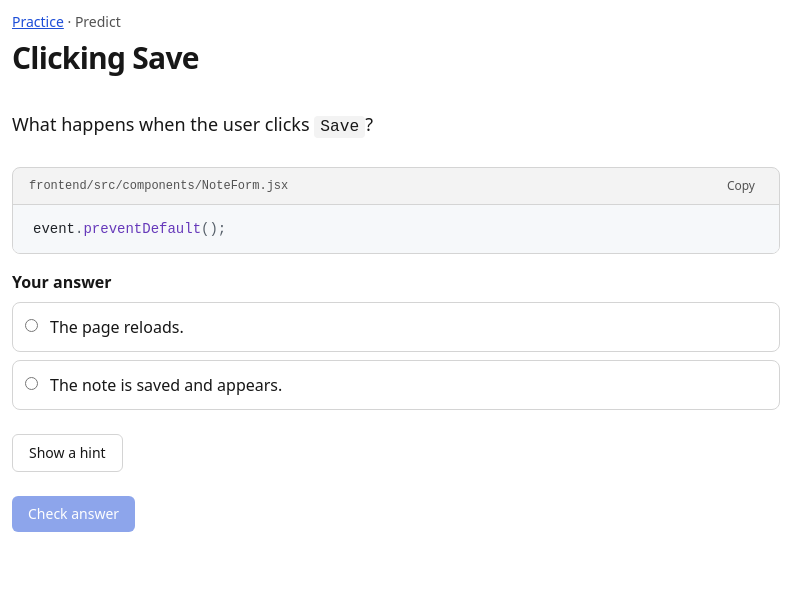
Test: ExercisePage › shows the server's message when checking fails
Step 1. Click the radio button labelled "The page reloads." → {"x": 32, "y": 326}, box 25,319 -> 38,332
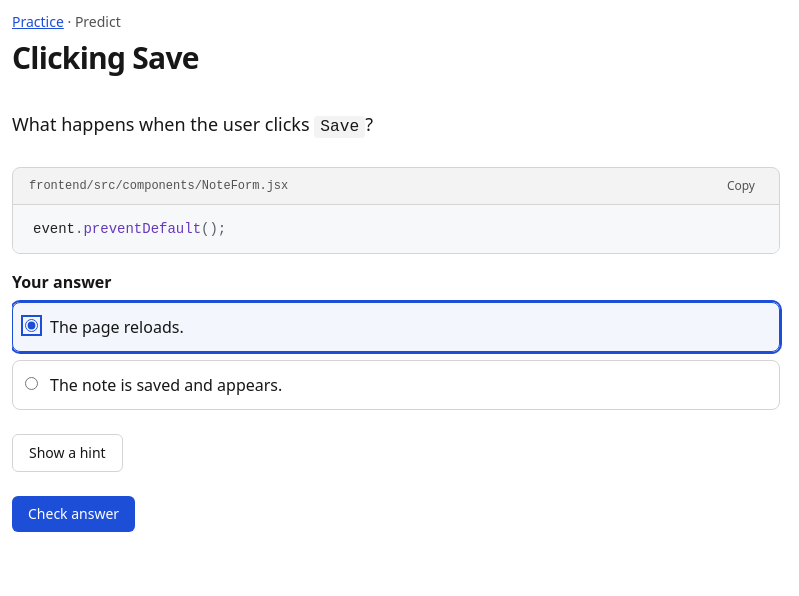
Step 2. Click the button "Check answer" → {"x": 74, "y": 514}, box 12,496 -> 135,532
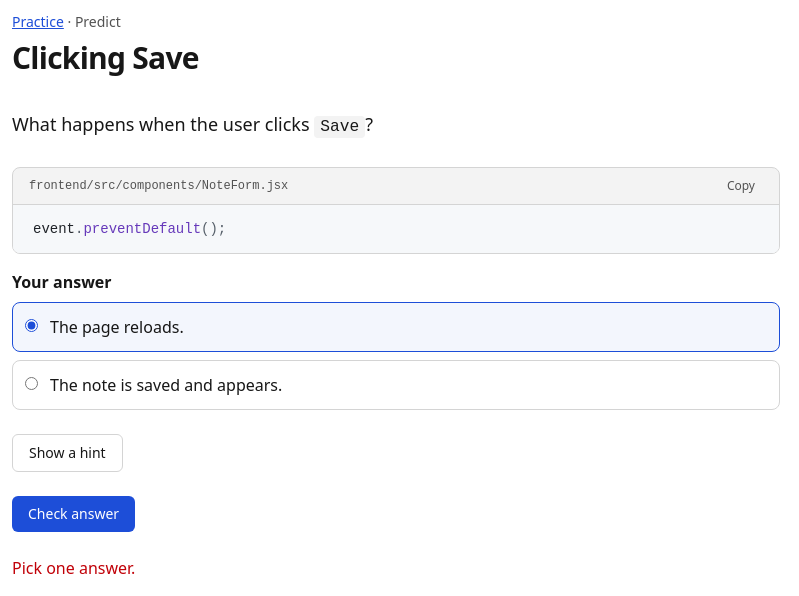
Expected: the message reads "Pick one answer.", 12,557 -> 135,579
